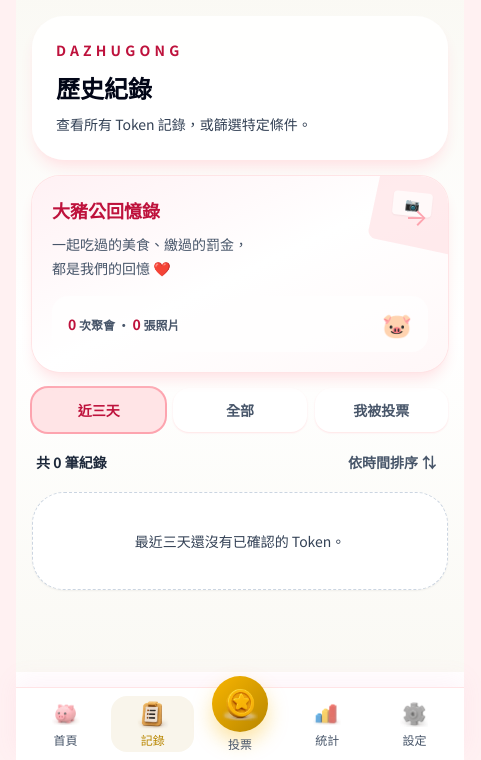
Test: App › updates the active bottom-nav tab when navigating between authenticated routes
Check: the heading "歷史紀錄" is shown, box [56,70,152,105]
Click the link "設定": [414, 724] box [400,700,428,748]
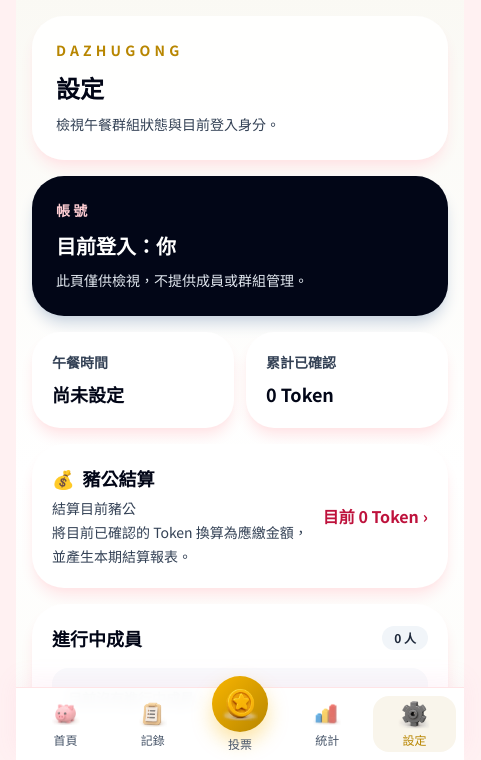
Check: the heading "設定" is shown, box [56,70,104,105]
